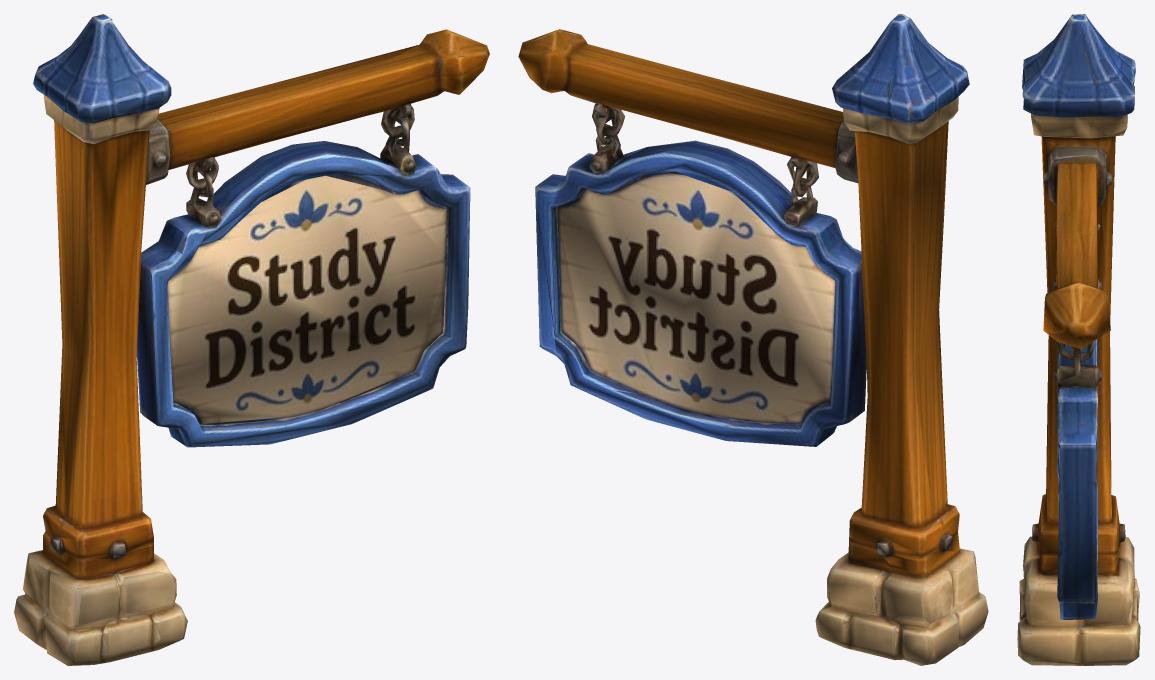
File: sign-study.glb
3 views of the same model, side by side, from view 1: azimuth 30°, elevation 25°; view 2: azimuth 150°, elevation 25°; view 3: azimuth 270°, elevation 25° (orthographic).
Parts seen in each view (by area): view 1: Mesh1.0; view 2: Mesh1.0; view 3: Mesh1.0.
Part boxes in pixels (x1,y1,x2,y2): Mesh1.0: (14, 14, 489, 665); Mesh1.0: (518, 14, 988, 665); Mesh1.0: (1017, 14, 1140, 665).
Size of the model in its own units: 1.42 by 1.89 by 0.3391.
Materials: 1 (1 with a texture image).
